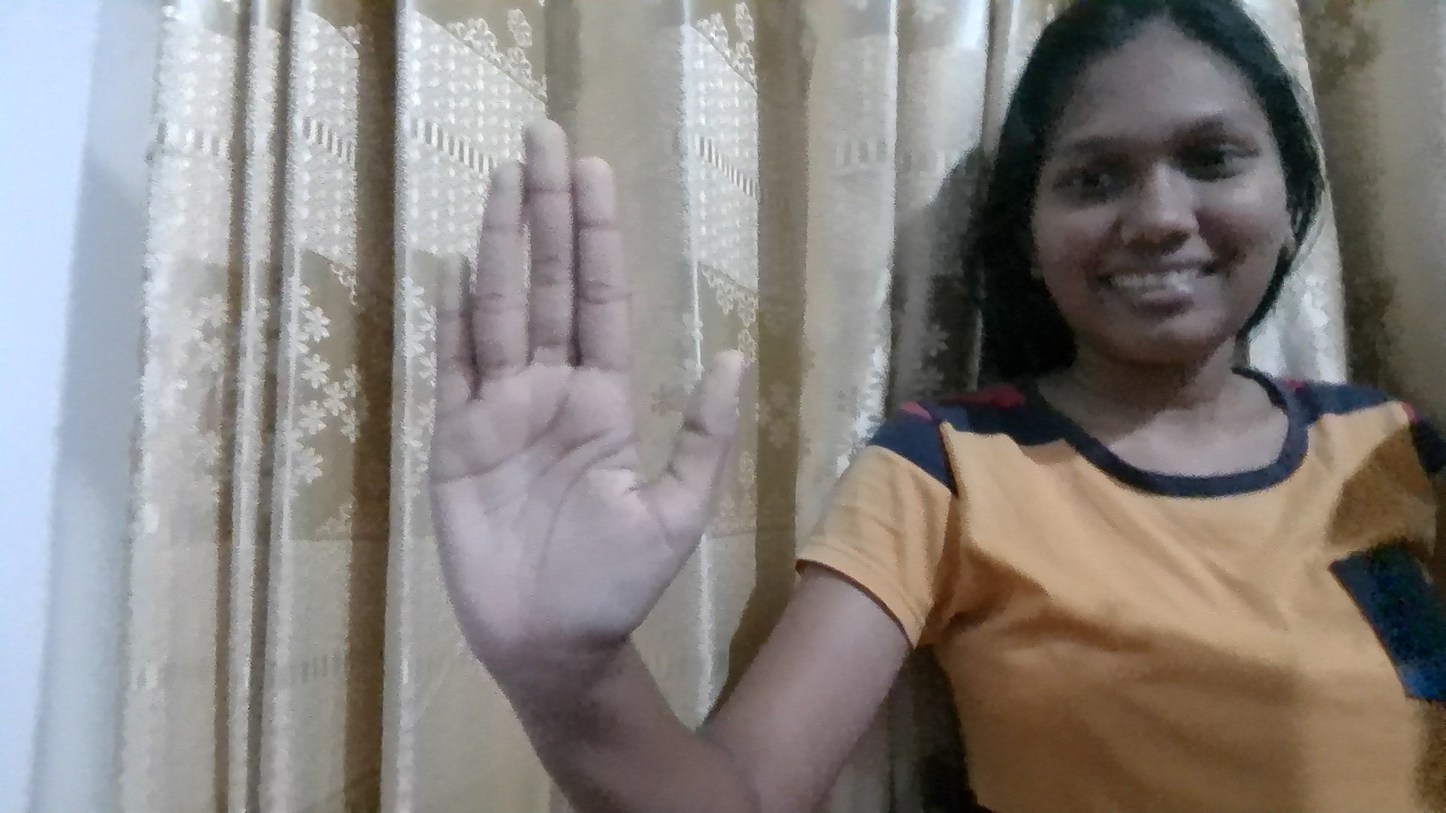Hello: (412, 72, 876, 698)
